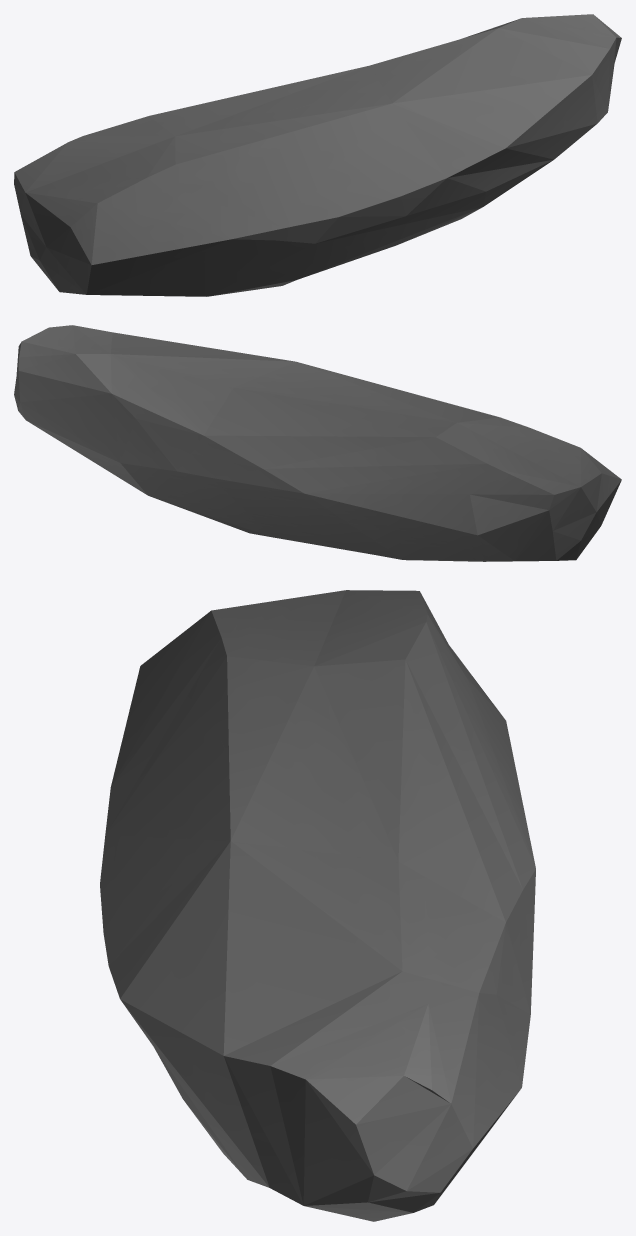
File: obsRock_03.fbx
The picture shows the model from 3 angles, top to bottom: view 1: azimuth 30°, elevation 25°; view 2: azimuth 150°, elevation 25°; view 3: azimuth 270°, elevation 25°; orthographic projection. The views are drawn at different scales.
Parts seen in each view (by area): view 1: obsRock_03; view 2: obsRock_03; view 3: obsRock_03.
Boxes of the visible parts, x1=… form: obsRock_03: x1=14, y1=14, x2=621, y2=296; obsRock_03: x1=14, y1=325, x2=621, y2=561; obsRock_03: x1=100, y1=590, x2=535, y2=1221.
Size of the model in its own units: 881 by 232 by 297.
1 material, 1 textured.
